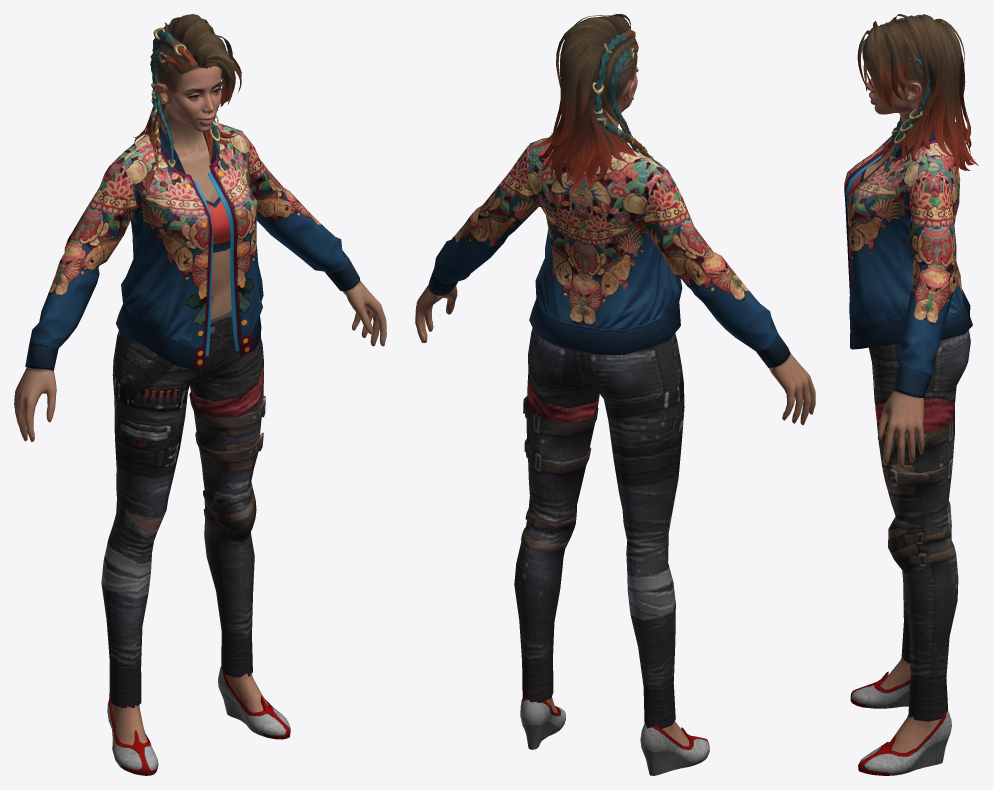
The model's file is dreadbomber.fbx.
The picture shows the model from 3 angles, left to right: view 1: azimuth 30°, elevation 25°; view 2: azimuth 150°, elevation 25°; view 3: azimuth 270°, elevation 25°; orthographic projection. The views are drawn at different scales.
Parts seen in each view (by area): view 1: Object_3, Object_2, Object_4, Object_7, Object_6, Object_5; view 2: Object_2, Object_3, Object_7, Object_6, Object_4, Object_5; view 3: Object_3, Object_2, Object_7, Object_4, Object_6, Object_5.
Part boxes in pixels (left/top/right/bottom): Object_3: left=25, top=122, right=359, bottom=370; Object_2: left=101, top=311, right=265, bottom=707; Object_4: left=14, top=105, right=386, bottom=745; Object_7: left=133, top=14, right=241, bottom=193; Object_6: left=107, top=666, right=290, bottom=775; Object_5: left=155, top=57, right=222, bottom=132; Object_2: left=514, top=328, right=684, bottom=729; Object_3: left=428, top=137, right=790, bottom=367; Object_7: left=526, top=14, right=654, bottom=190; Object_6: left=520, top=697, right=709, bottom=775; Object_4: left=415, top=116, right=815, bottom=746; Object_5: left=602, top=52, right=638, bottom=116; Object_3: left=844, top=125, right=972, bottom=397; Object_2: left=869, top=330, right=970, bottom=721; Object_7: left=857, top=14, right=978, bottom=176; Object_4: left=863, top=112, right=940, bottom=752; Object_6: left=850, top=671, right=951, bottom=775; Object_5: left=866, top=62, right=924, bottom=114.
Bounding box in the file's own units: 546 × 998 × 170.
Materials: 6 (6 with a texture image).
